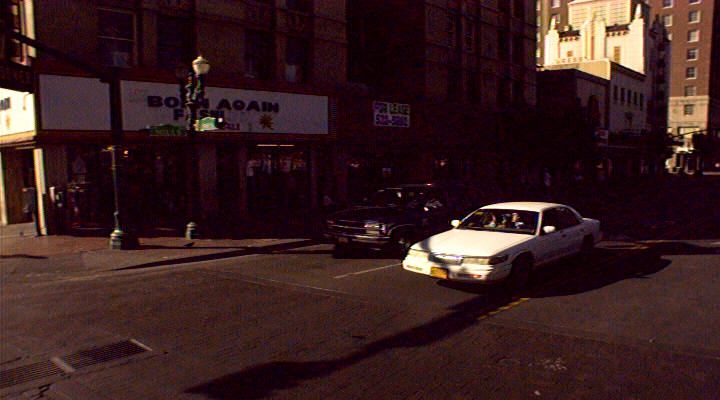Ramp: (1, 244, 180, 289)
